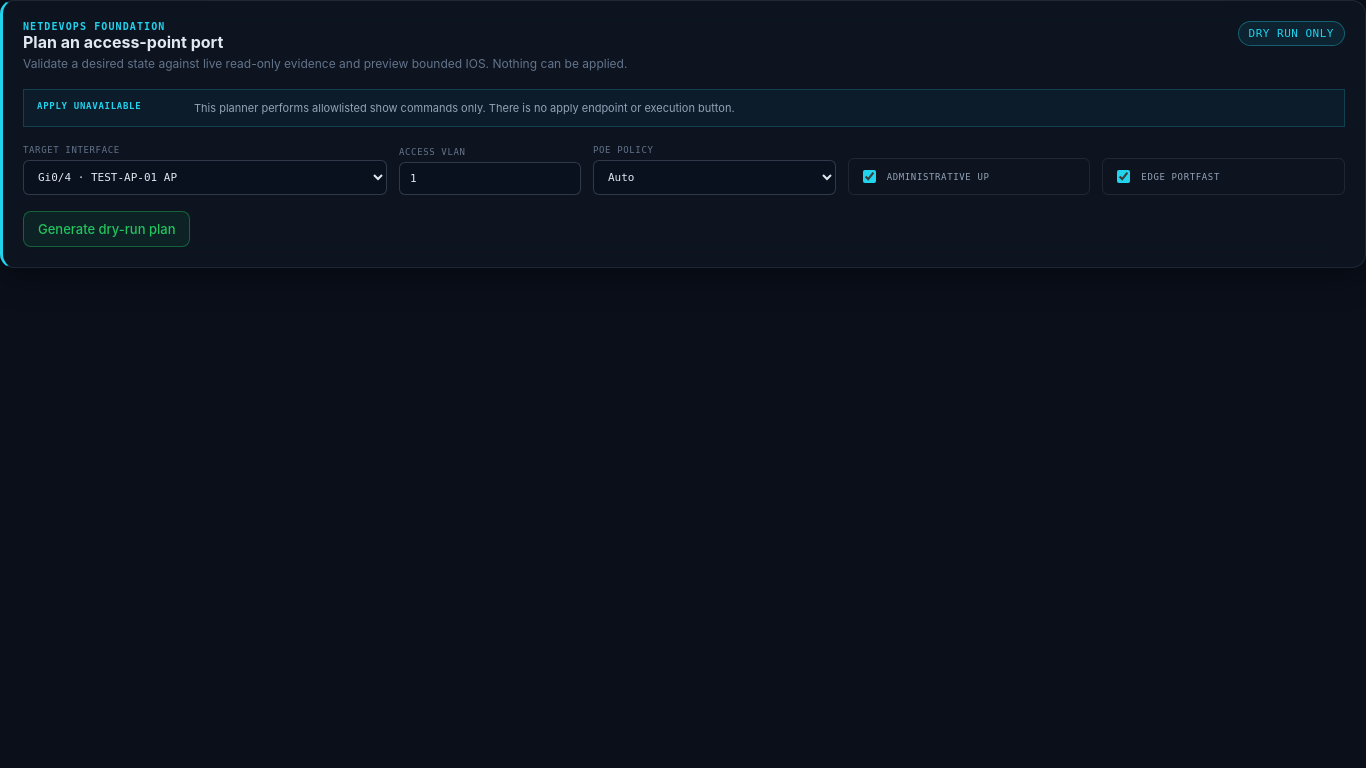
Scenario: DeploymentPlanPanel › surfaces a blocked plan without pretending it is safe
Click the button "Generate dry-run plan": (107, 229) [23, 211, 190, 247]
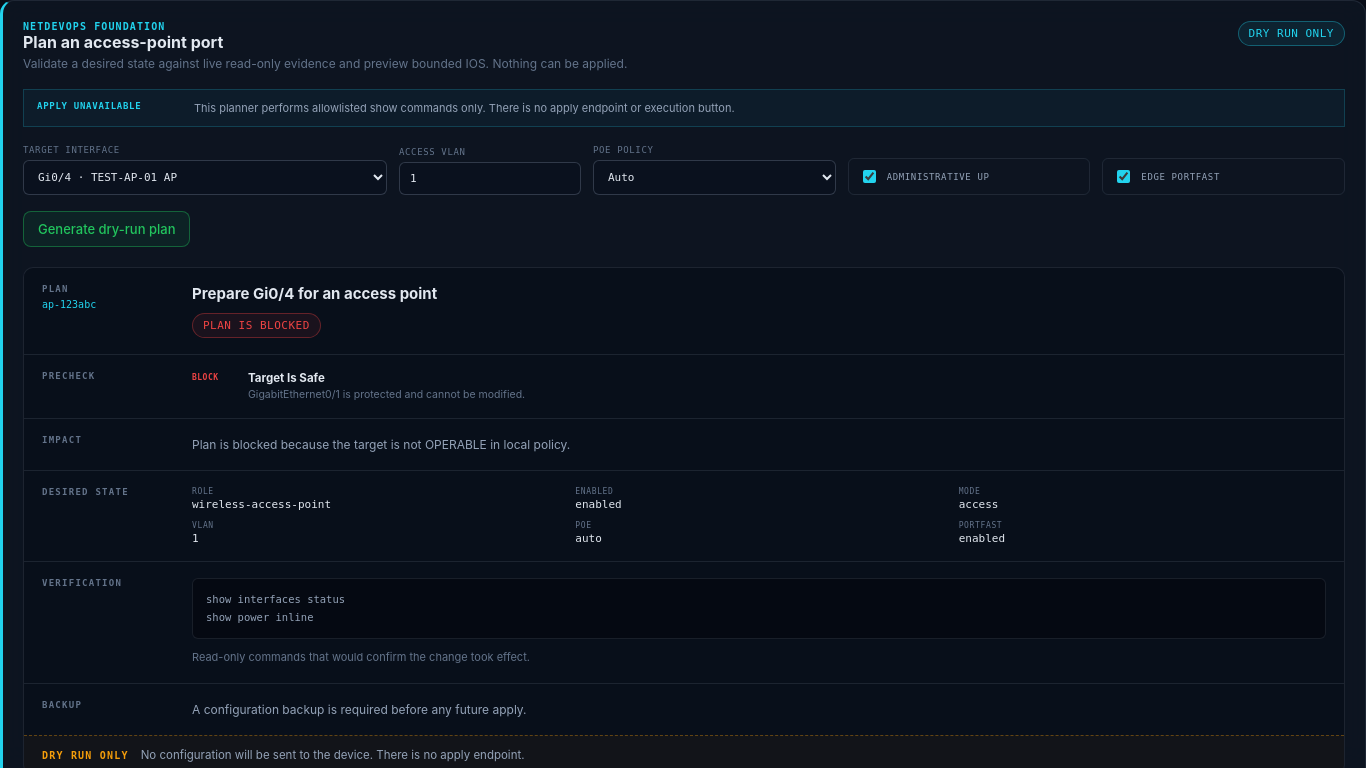
Result: the text "PLAN IS BLOCKED" is shown at [192, 313, 321, 338]
Result: the text "BLOCK" is shown at [192, 373, 218, 382]
Result: the text "GigabitEthernet0/1 is protected and cannot be modified." is shown at [248, 388, 525, 401]
